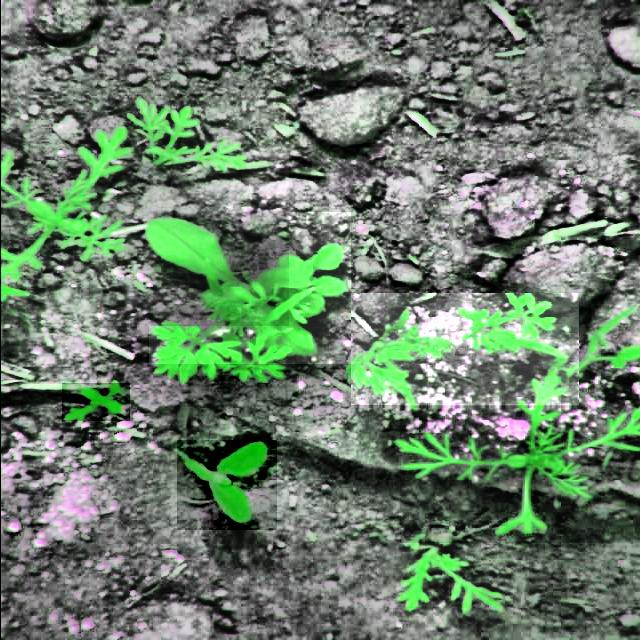Weeds: (148, 212, 350, 364), (176, 440, 276, 530)
undefined: (1, 96, 288, 326), (399, 364, 640, 543), (350, 294, 578, 408), (395, 538, 516, 630), (61, 383, 129, 421)
